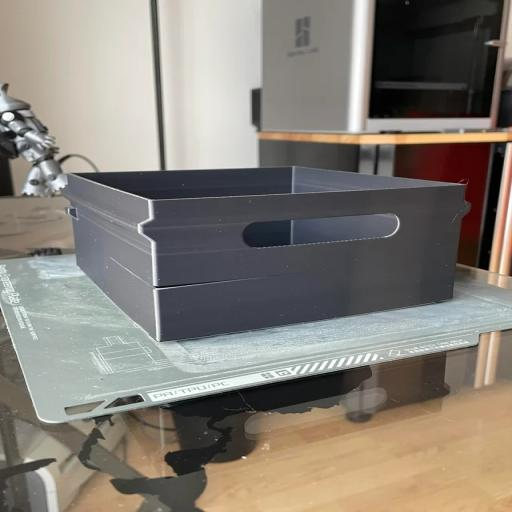cracks: (105, 258, 315, 305)
